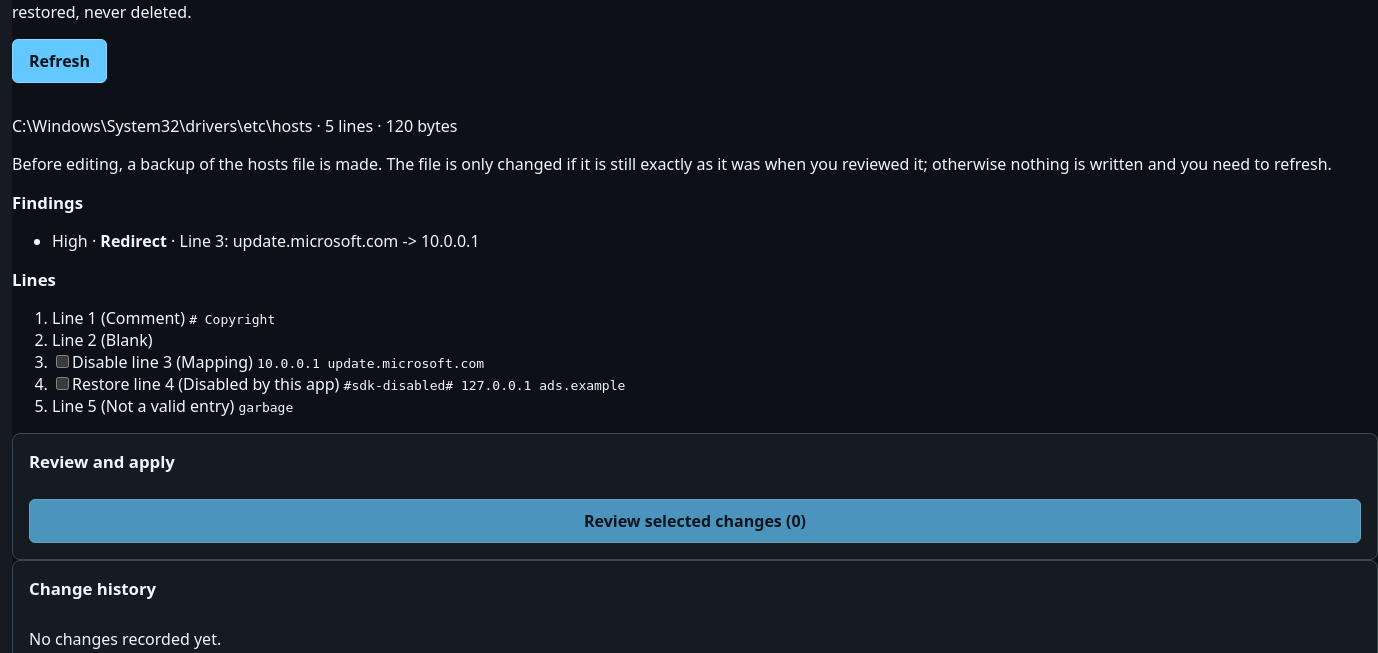
two selected lines produce one editHosts change with two ops in line order
The width and height of the screenshot is (1378, 653).
Click the checkbox labelled "Restore line 4".
click(62, 384)  # box 56,377 -> 69,390
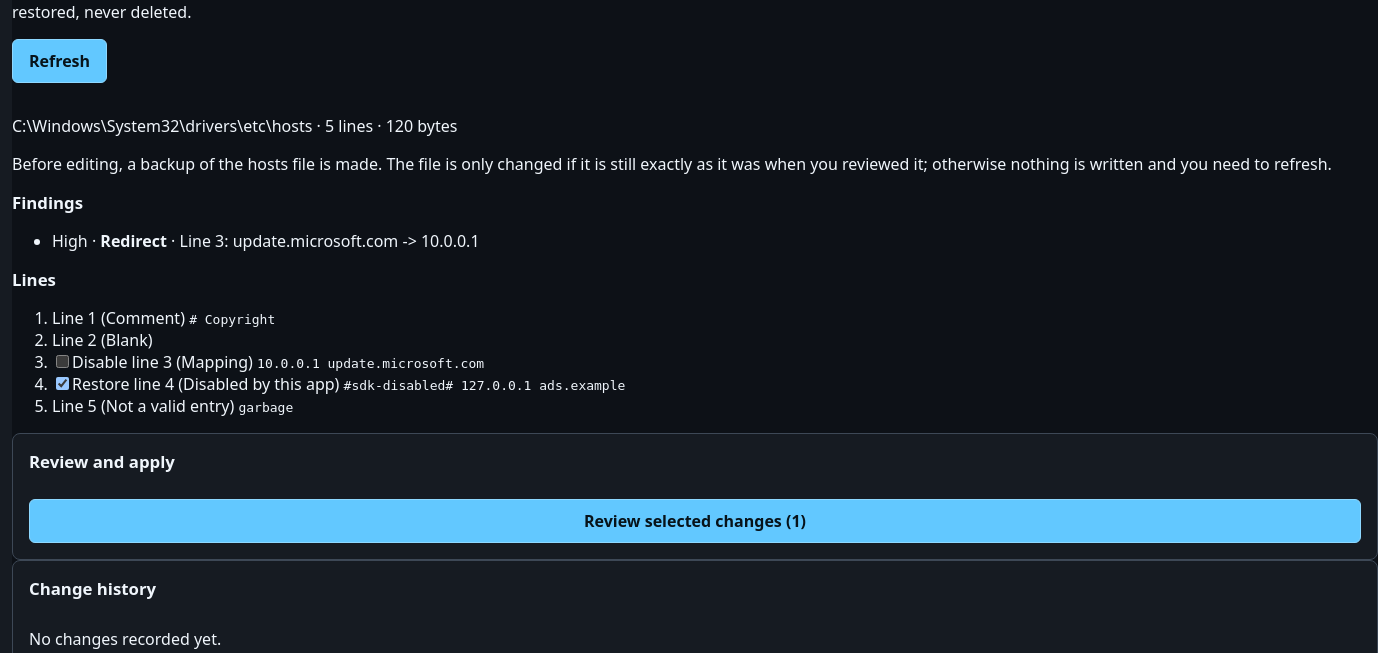
Click the checkbox labelled "Disable line 3".
click(62, 362)  # box 56,355 -> 69,368
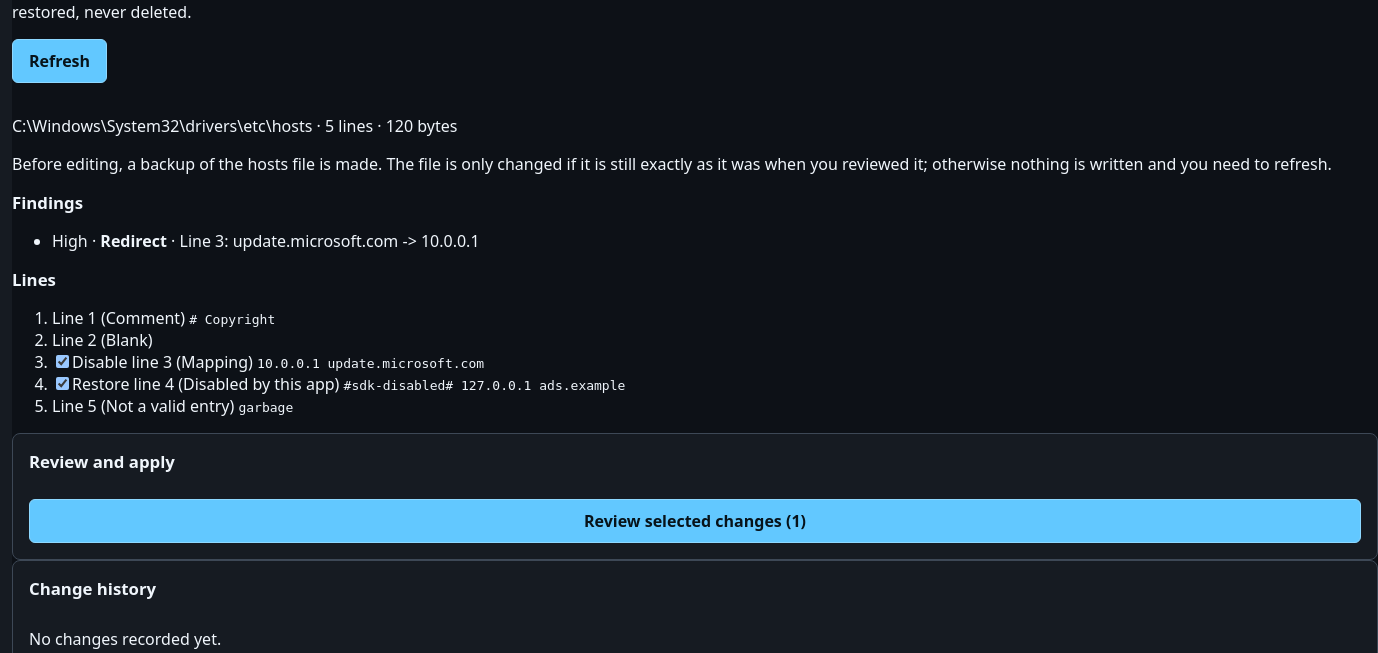
Click the button "Review selected changes (1)".
click(695, 521)  # box 29,499 -> 1361,543
(page scrolled)
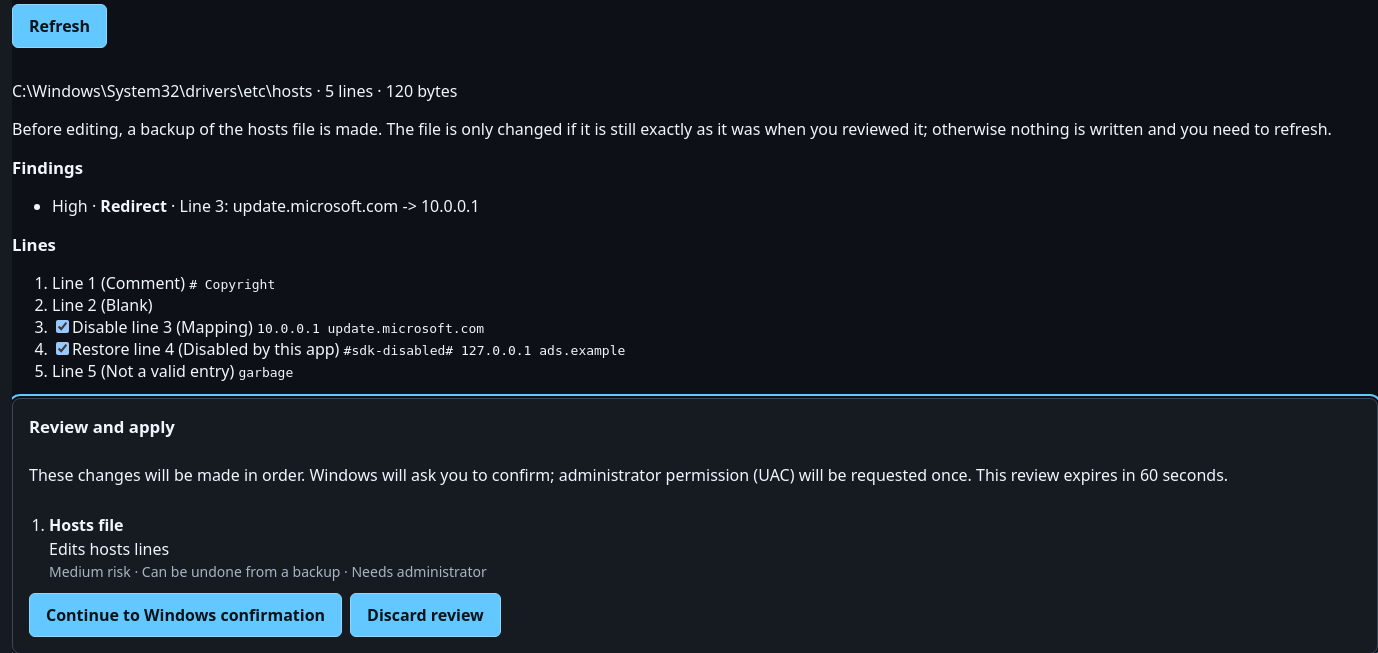
expect the button "Continue to Windows confirmation" is shown: met, box 29,593 -> 342,637
